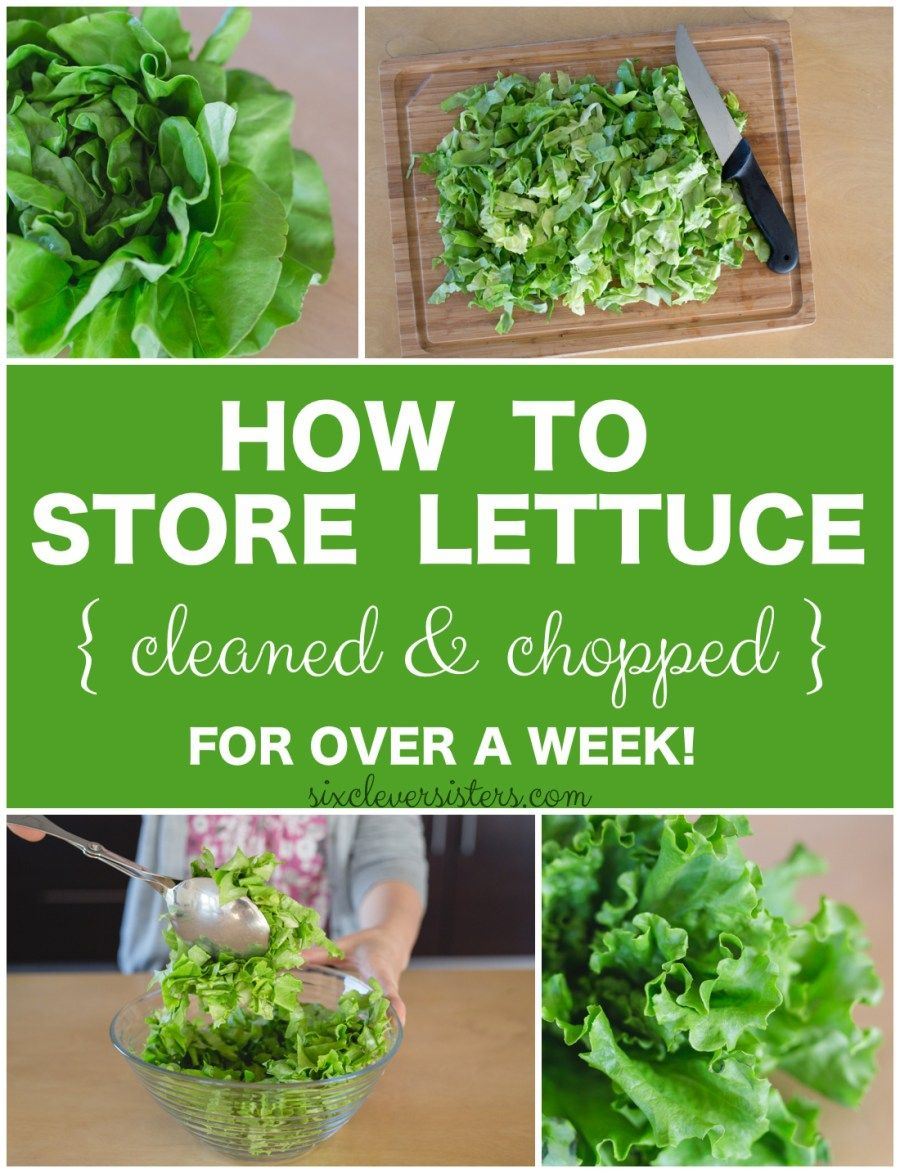chopped lettuce: (12, 14, 328, 354), (546, 836, 863, 1173), (420, 97, 750, 293), (141, 941, 395, 1093)
